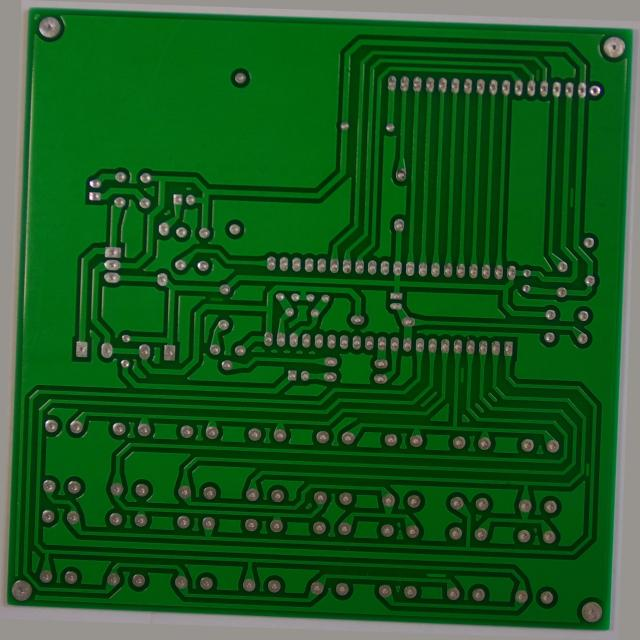spurious_copper: (436, 572, 463, 587), (462, 360, 476, 383), (200, 296, 222, 309), (570, 171, 580, 197), (598, 455, 606, 477)
